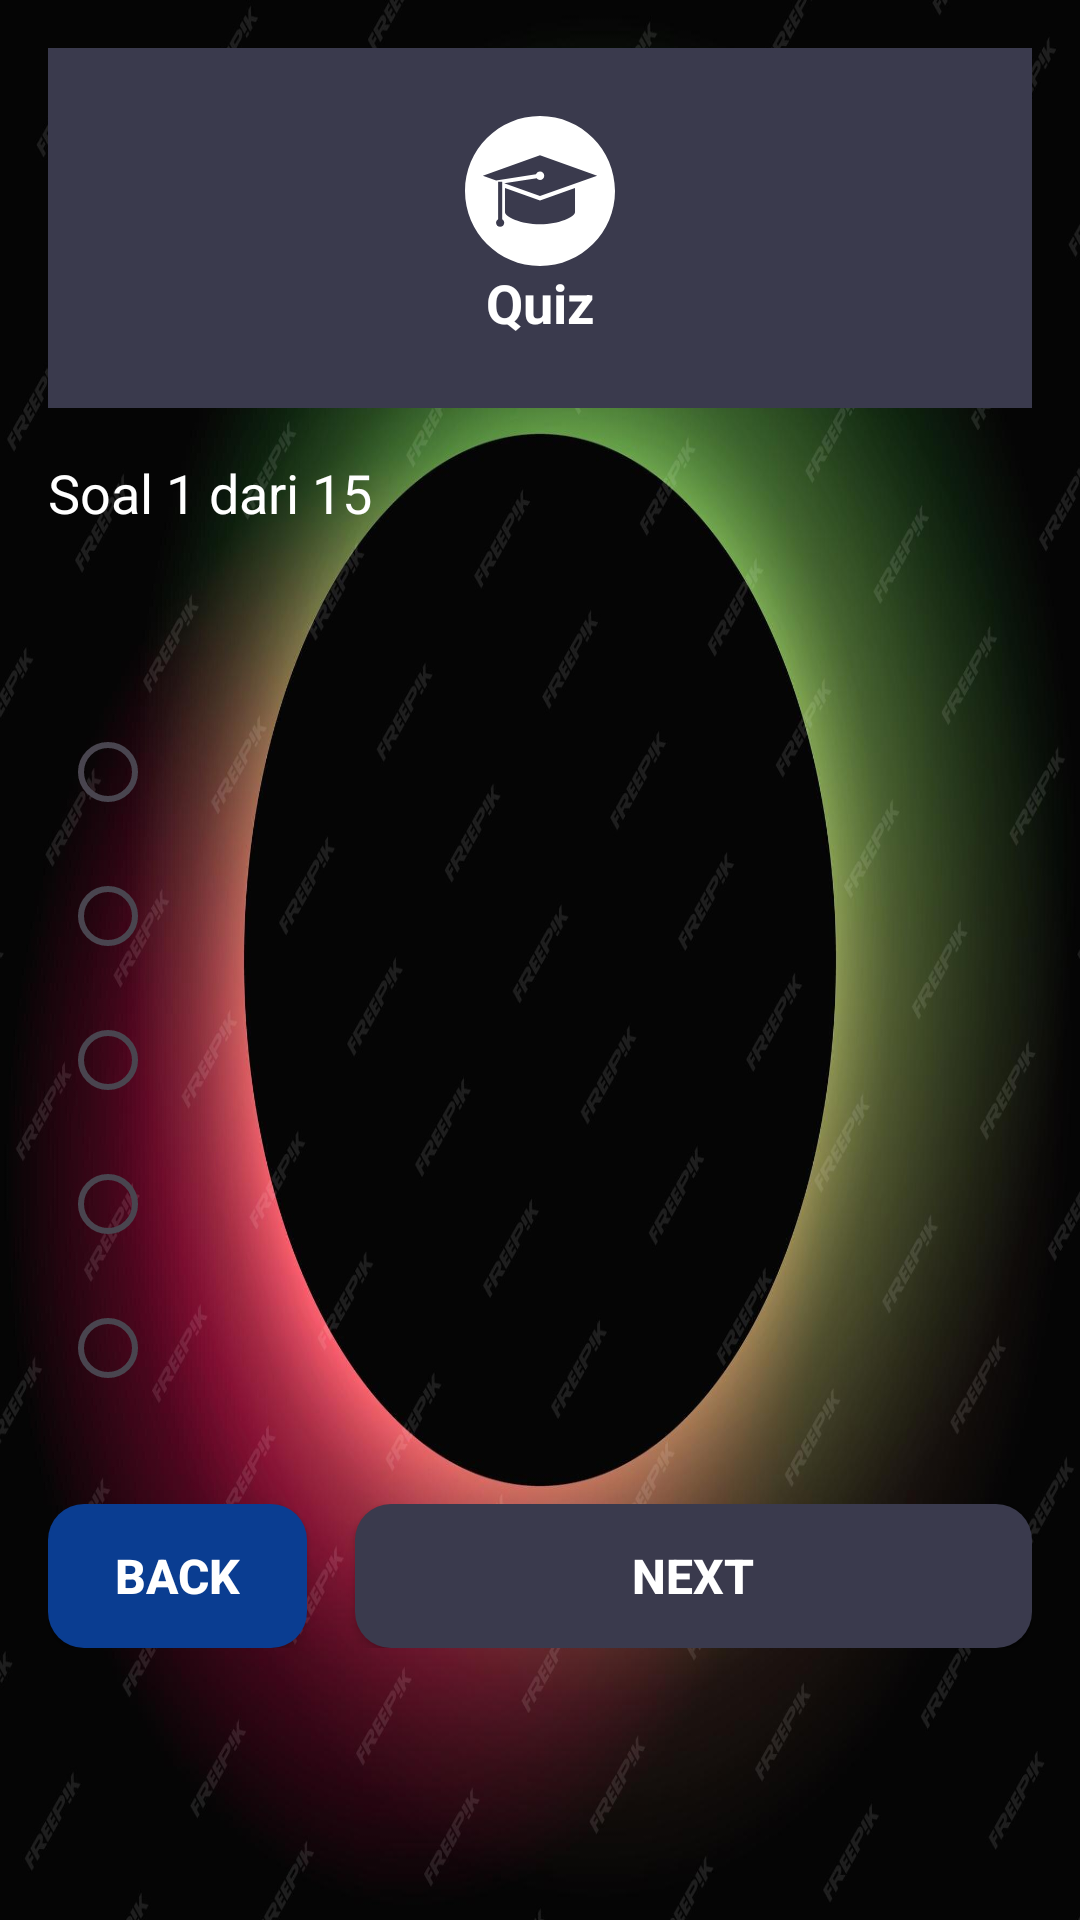

Where icons sit on this 1080w x 1920h app screen, as (x1, y1, x2, y2):
Header Icon: (465, 116, 615, 266)
